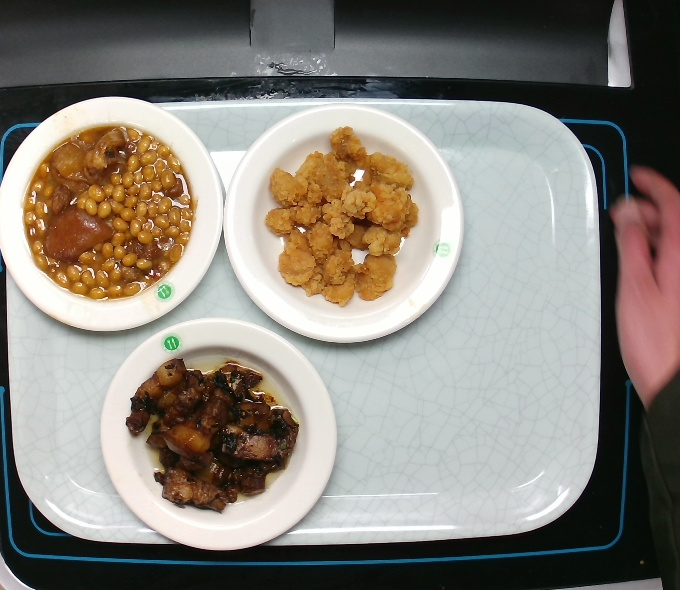wcq-GanCaiRou: (122, 352, 301, 517)
wcq-HuangDouZhuJiao: (15, 118, 204, 306)
wcq-JiMiHua: (260, 120, 423, 311)
